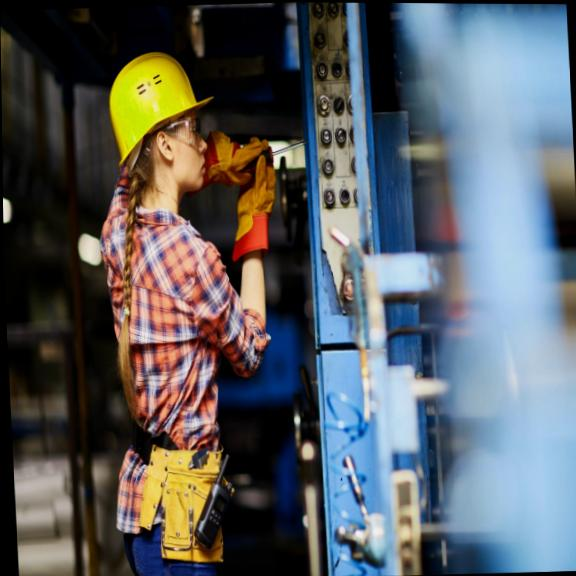no_safety_vest: (106, 204, 230, 454)
